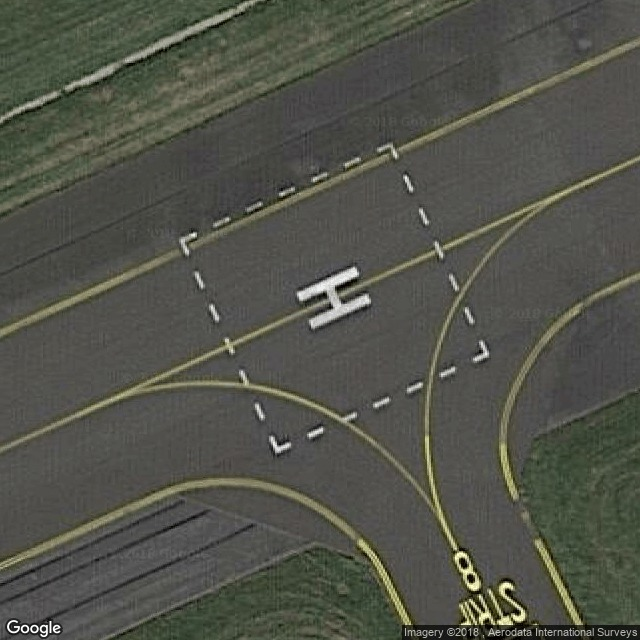heliport: (285, 259, 376, 334)
